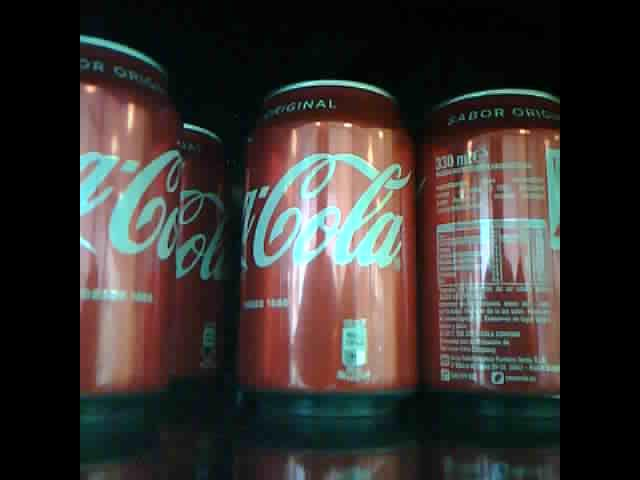coca cola: (236, 63, 420, 411), (417, 91, 560, 403), (78, 31, 180, 422), (175, 107, 232, 411)
